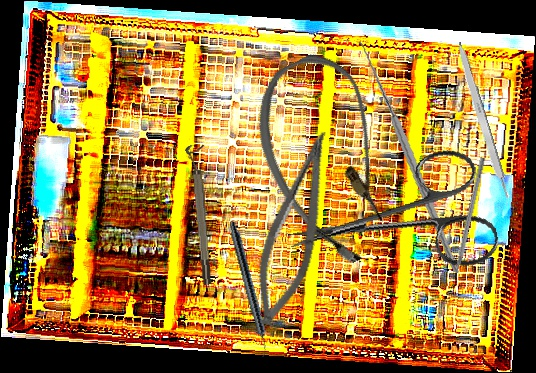Cannula: (230, 41, 430, 278)
Fixation Ring: (185, 144, 214, 286)
Handpiece: (224, 221, 274, 358)
Hook Surgical: (316, 39, 491, 274), (448, 156, 487, 291)
Iris Scissors: (277, 143, 503, 301)
Micro Scissor: (245, 123, 340, 332)
Scalpel Handle: (452, 40, 512, 201)
